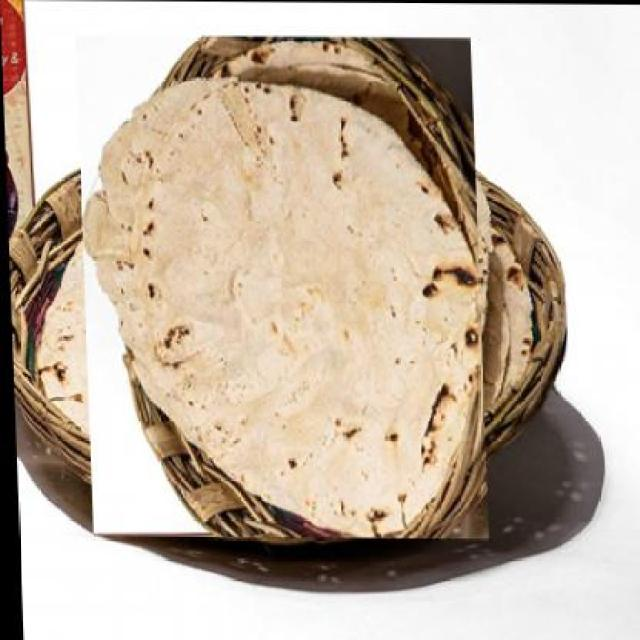chapati: (50, 61, 513, 514)
